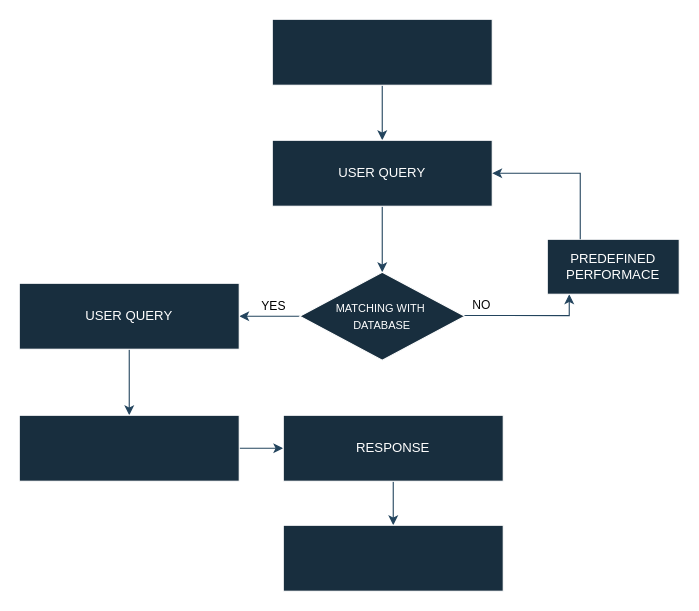
The diagram is 699 pixels wide and 611 high, and some of its shapes have lost their labels. Each missing label, with the centre of its shape:
END: point 392,557
RESPONSE SELECTOR: point 128,447
START: point 381,51
